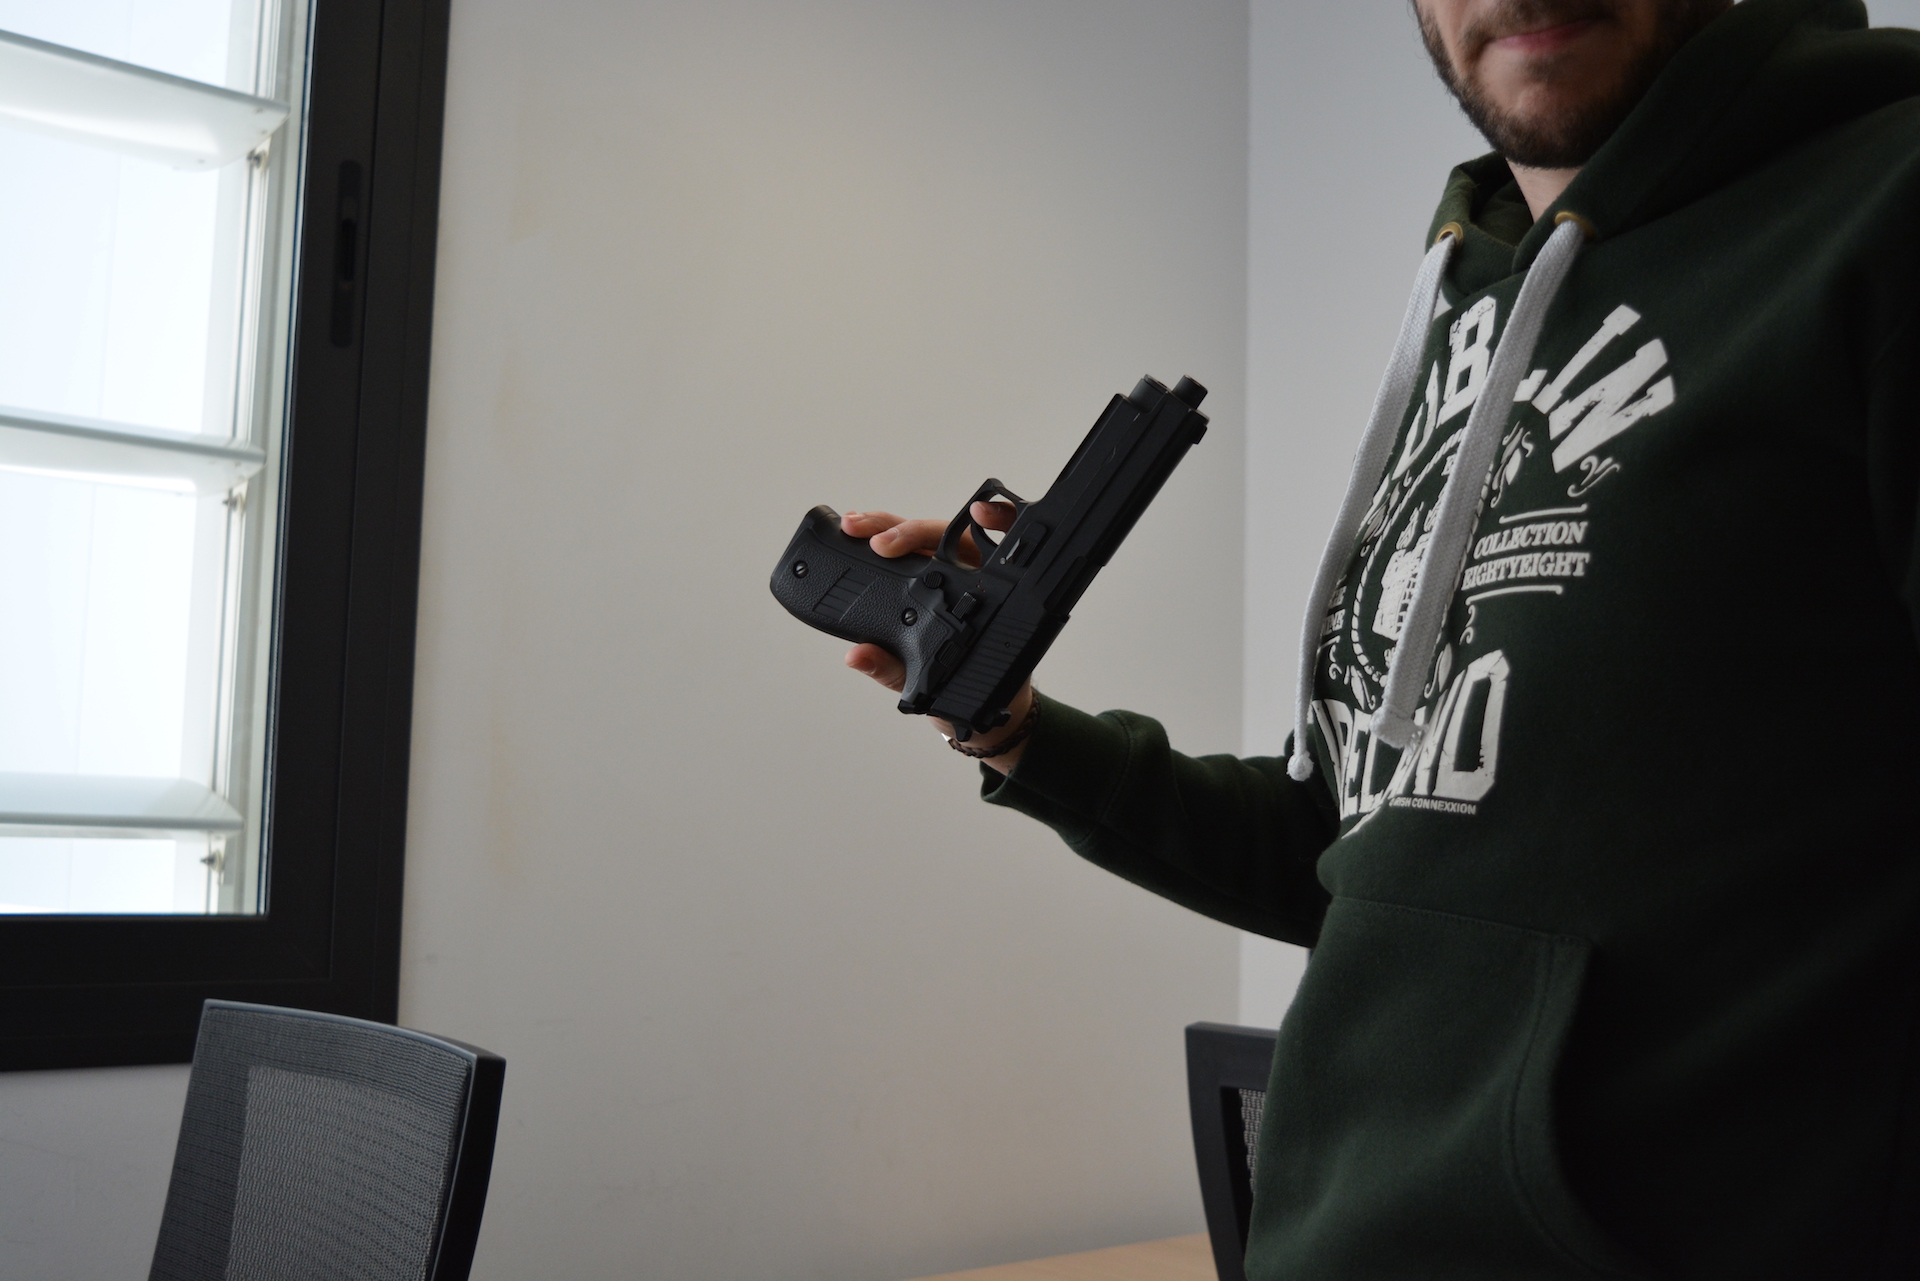pistol: (765, 367, 1214, 746)
